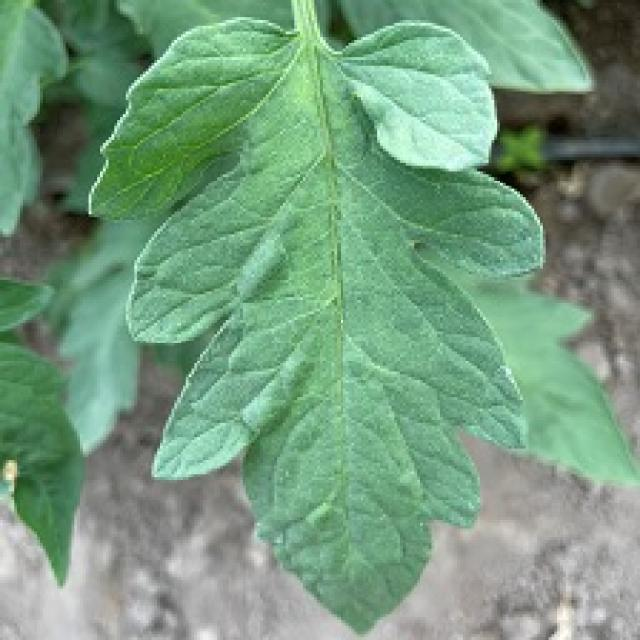Healthy: (54, 0, 617, 640)
